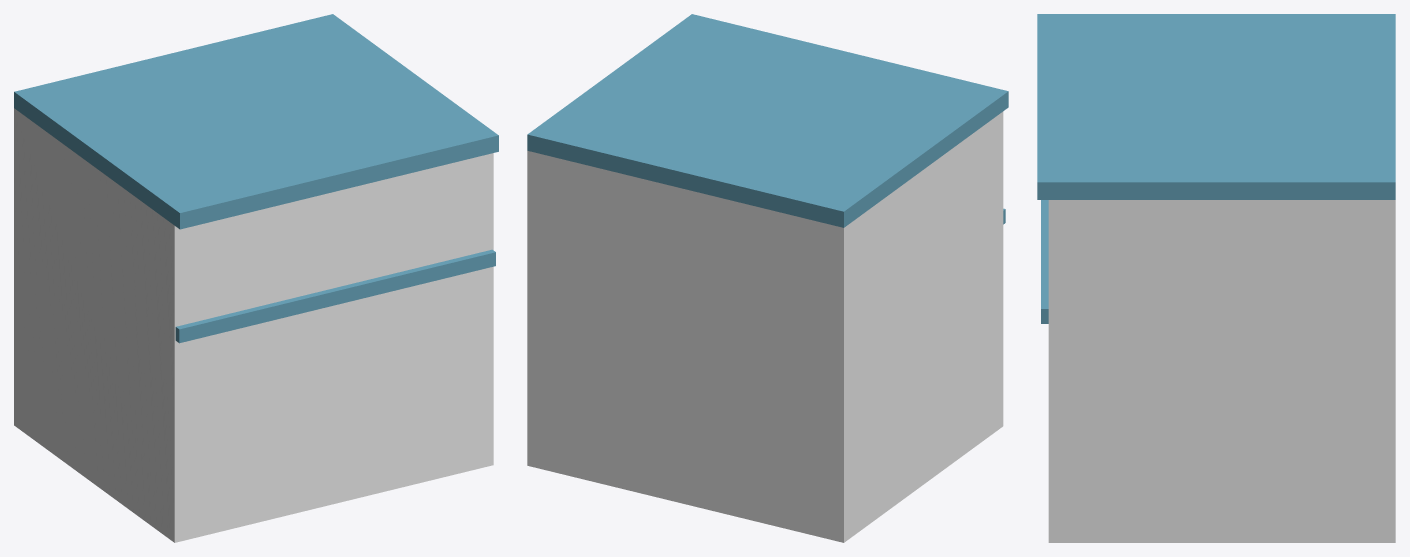
The model's file is Block.fbx.
3 renders of one model, left to right at view 1: azimuth 30°, elevation 25°; view 2: azimuth 150°, elevation 25°; view 3: azimuth 270°, elevation 25°, orthographic. The views are drawn at different scales.
Parts seen in each view (by area): view 1: Cube; view 2: Cube; view 3: Cube.
Part boxes in pixels (box(x1,y1,x2,y2)): Cube: box(14, 14, 498, 542); Cube: box(527, 14, 1008, 542); Cube: box(1037, 14, 1395, 542).
Size of the model in its own units: 672 by 672 by 606.
